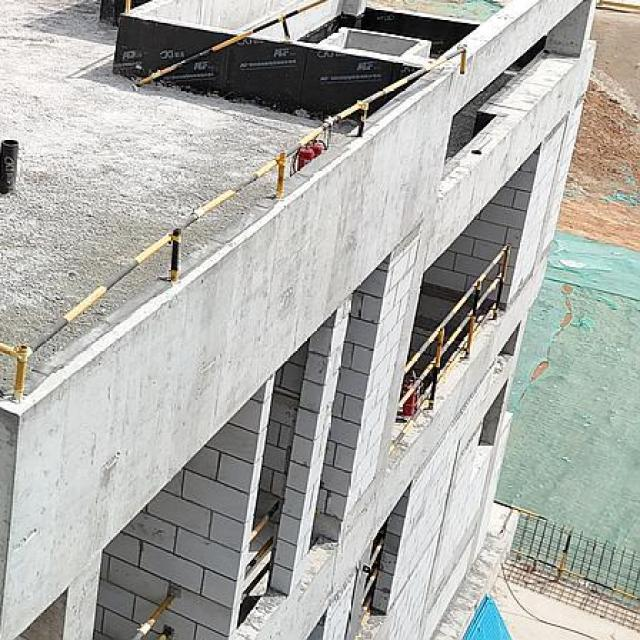edge_guardrail: (0, 44, 469, 400), (397, 243, 512, 410), (133, 0, 336, 90), (239, 497, 280, 597), (130, 590, 177, 640), (492, 499, 549, 534), (362, 537, 384, 607)
